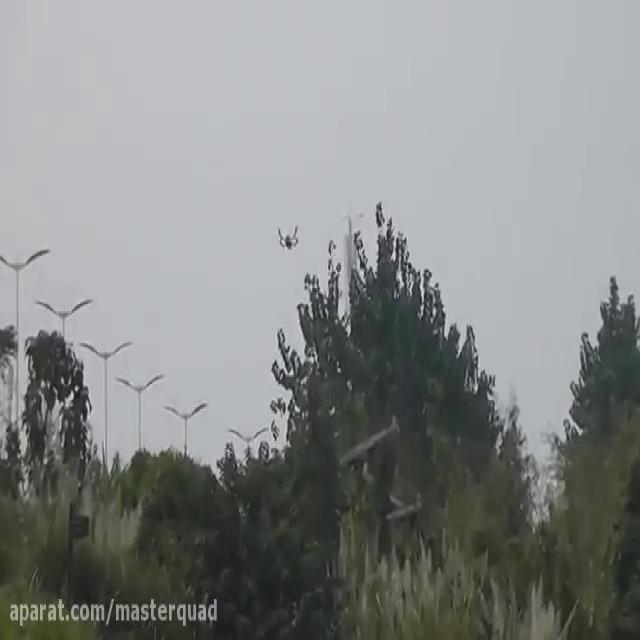drone: (273, 215, 303, 254)
